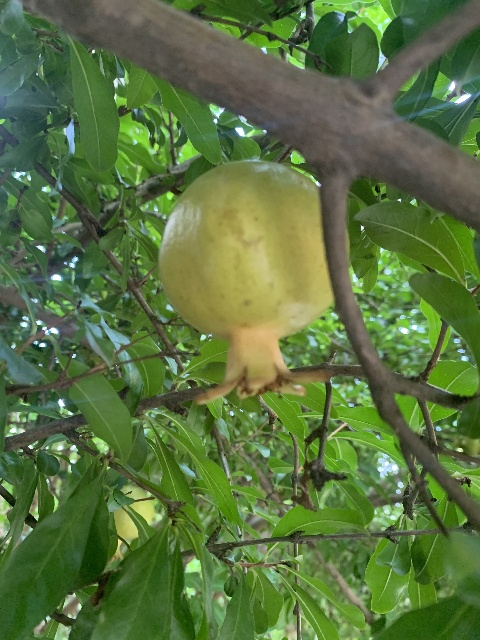mid-growth: (158, 161, 334, 407), (108, 485, 154, 562)
